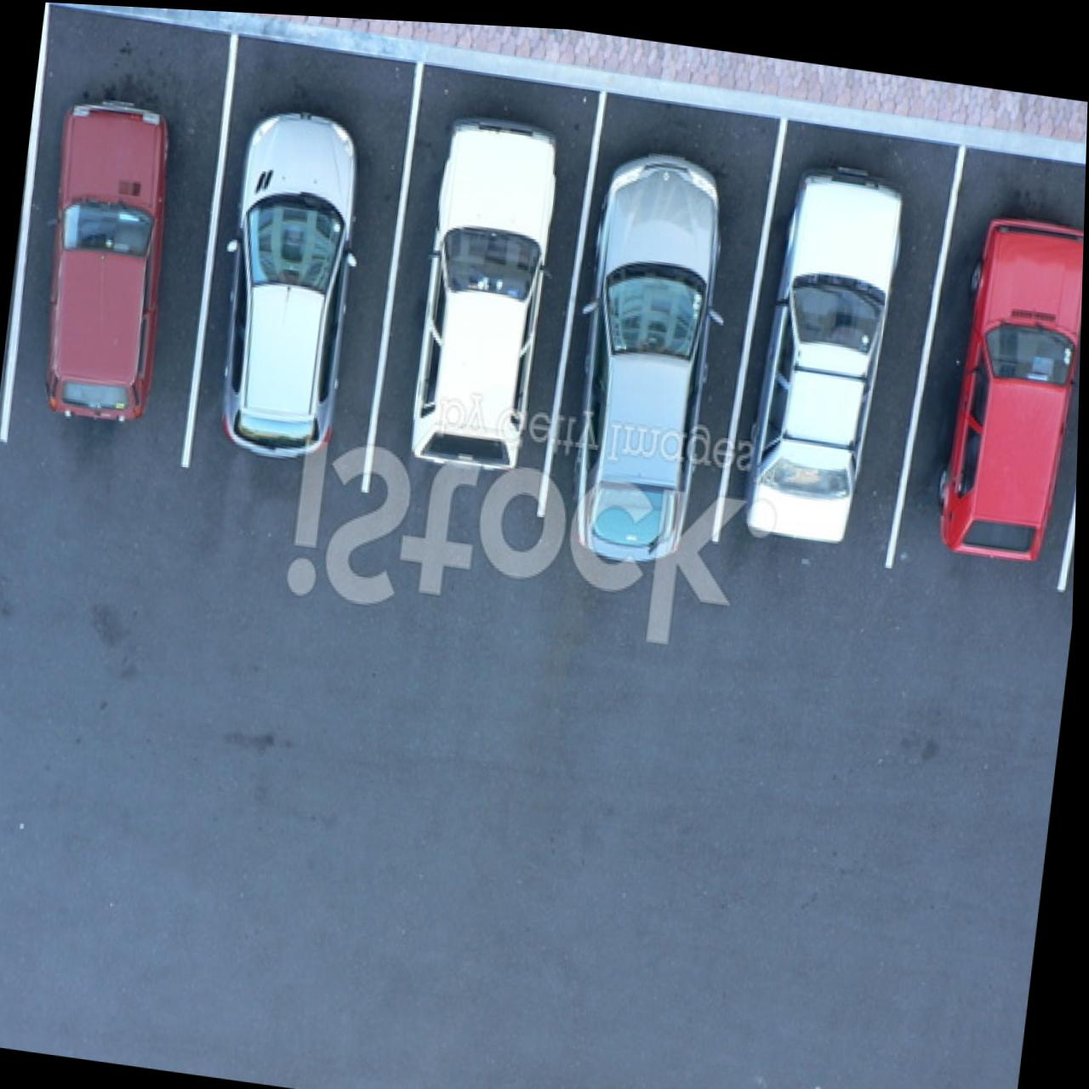cars: (0, 8, 232, 463), (365, 67, 597, 521), (192, 41, 415, 493), (727, 119, 950, 559), (557, 98, 765, 536), (911, 149, 1086, 586)
